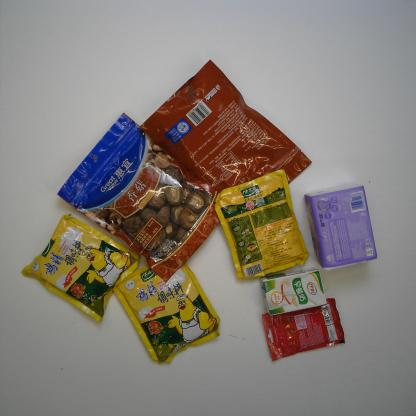Candy: (262, 297, 346, 362)
Dried Food: (57, 112, 224, 283), (139, 58, 312, 219)
Milk: (260, 267, 327, 317)
Seasoner: (20, 212, 140, 324), (112, 256, 221, 365), (213, 168, 310, 280)
Tissue: (304, 183, 379, 271)
